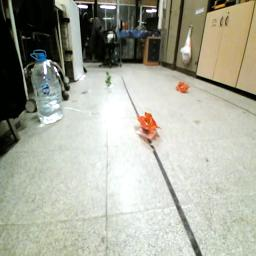herb: (105, 72, 114, 89)
wild: (137, 111, 164, 133), (177, 82, 192, 94)
